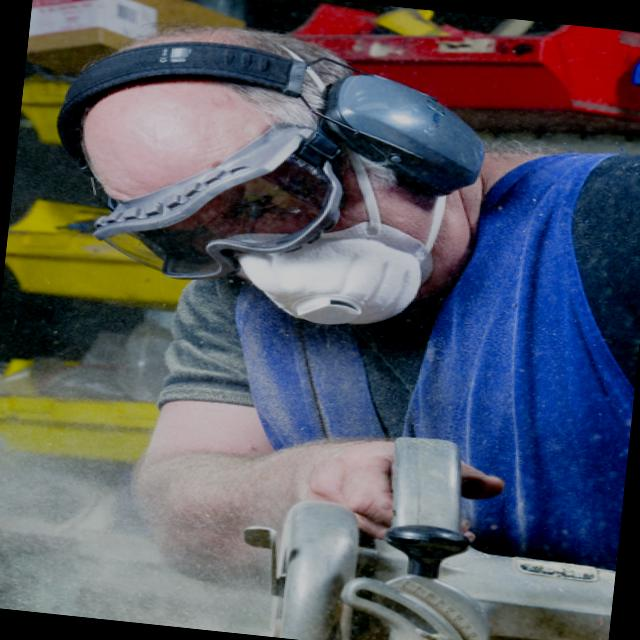goggles: (74, 106, 348, 302)
no-helmet: (36, 3, 304, 204)
no-vest: (211, 153, 640, 557)
